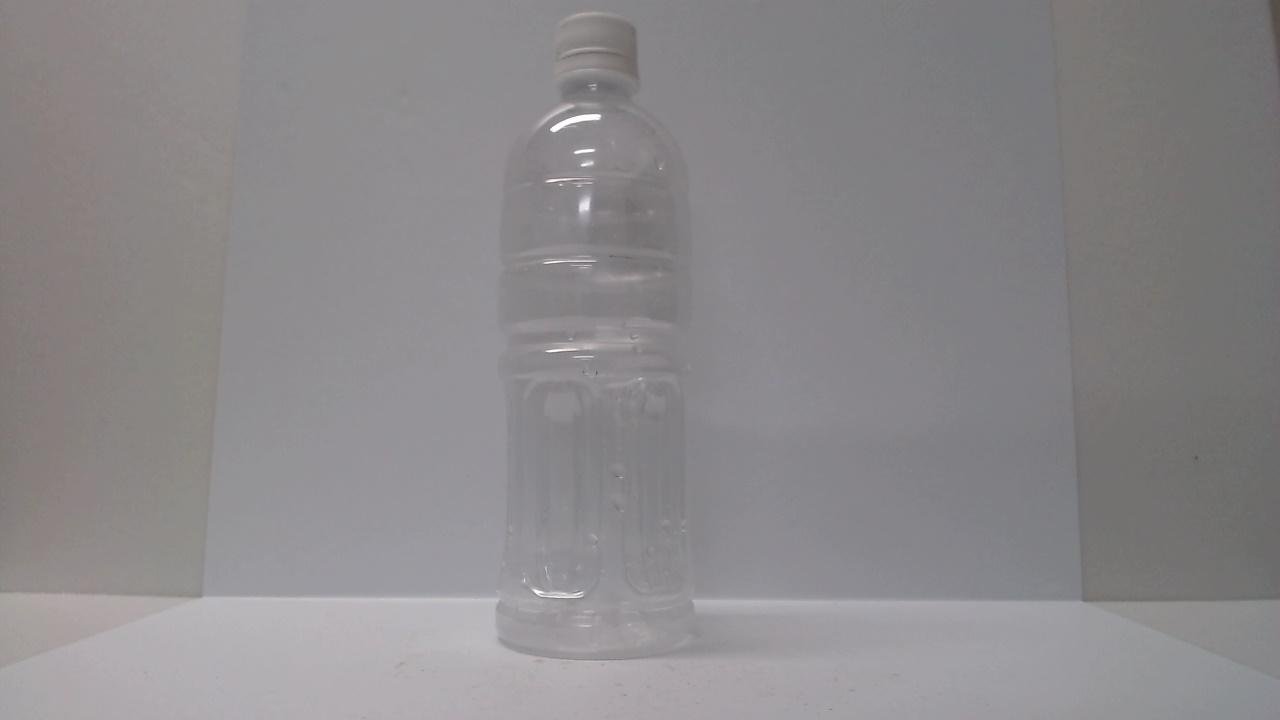bottle: (494, 7, 707, 674)
